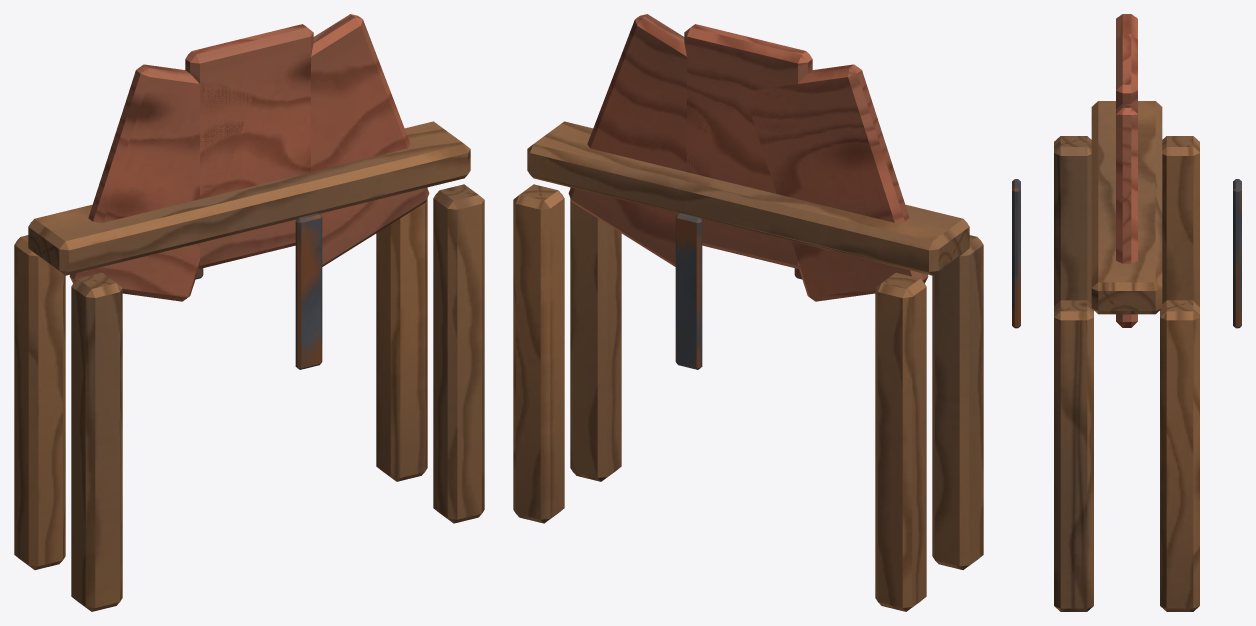
Rendered from eyerlik.glb.
3 views of the same model, side by side, from view 1: azimuth 30°, elevation 25°; view 2: azimuth 150°, elevation 25°; view 3: azimuth 270°, elevation 25° (orthographic). The views are drawn at different scales.
Parts seen in each view (by area): view 1: eyerlik; view 2: eyerlik; view 3: eyerlik.
Boxes of the visible parts, x1,y1,x2,y2 form: eyerlik: [14, 14, 484, 611]; eyerlik: [513, 14, 983, 611]; eyerlik: [1012, 14, 1241, 611].
Bounding box in the file's own units: 1 × 1.16 × 0.52.
1 material, 1 textured.
